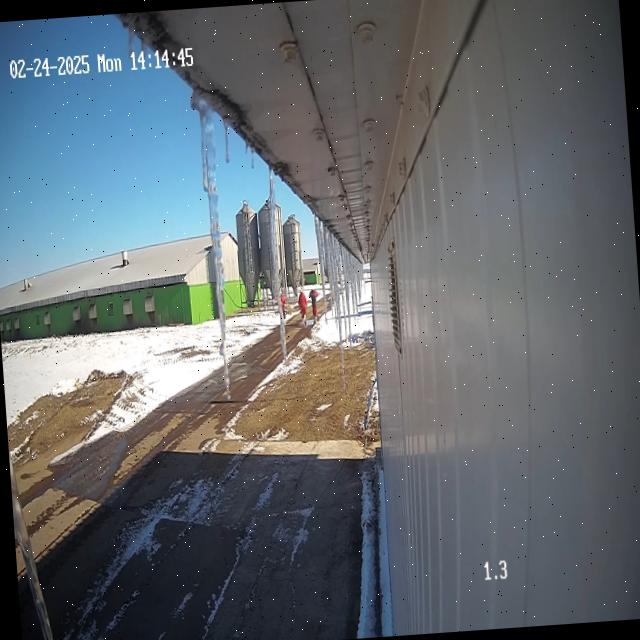Red uniform: (297, 290, 306, 325), (309, 289, 317, 323), (280, 292, 286, 318)
